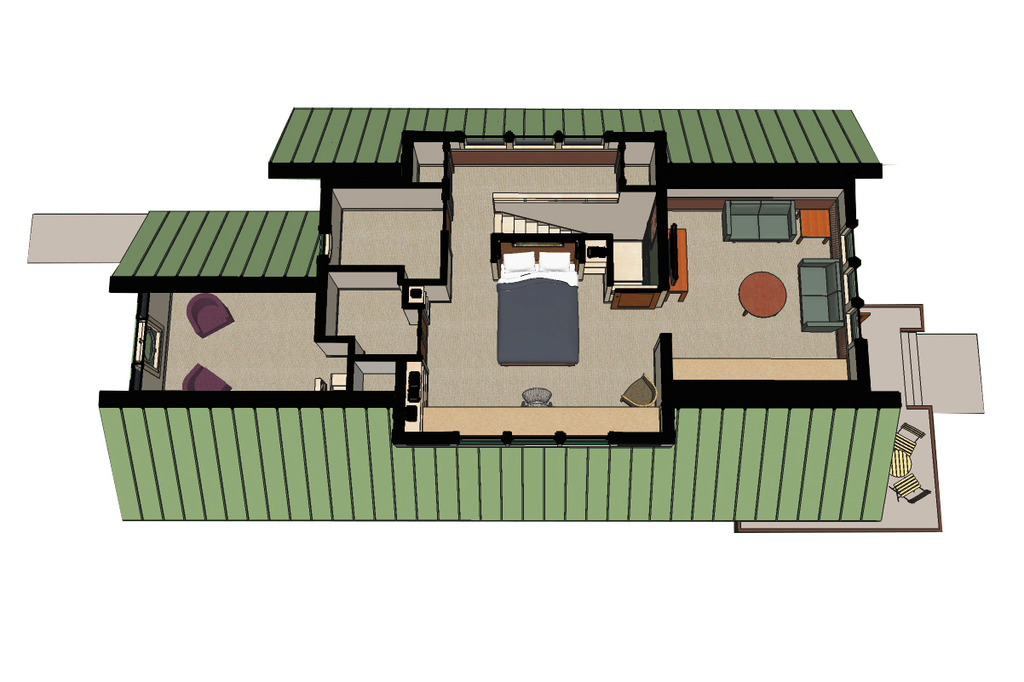bed: (500, 251, 581, 371)
large_sofa: (795, 247, 851, 340), (722, 196, 797, 250)
small_sofa: (180, 292, 237, 340), (181, 357, 234, 390)
stairs: (492, 199, 620, 234)
